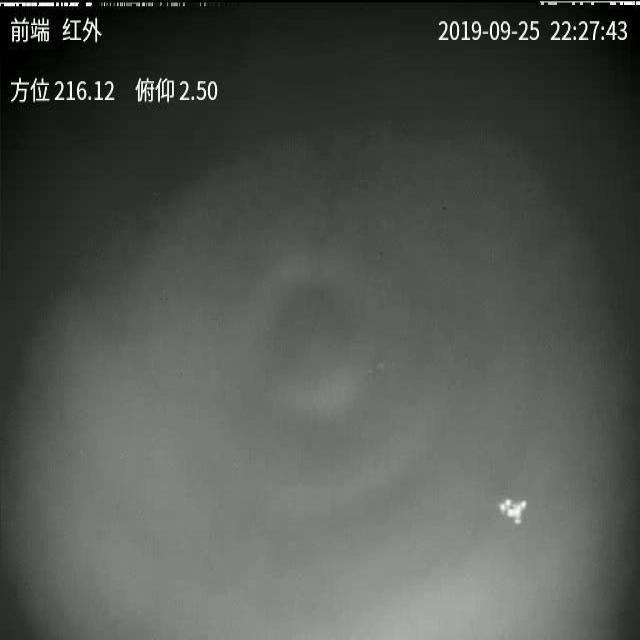drone: (498, 500, 532, 527)
